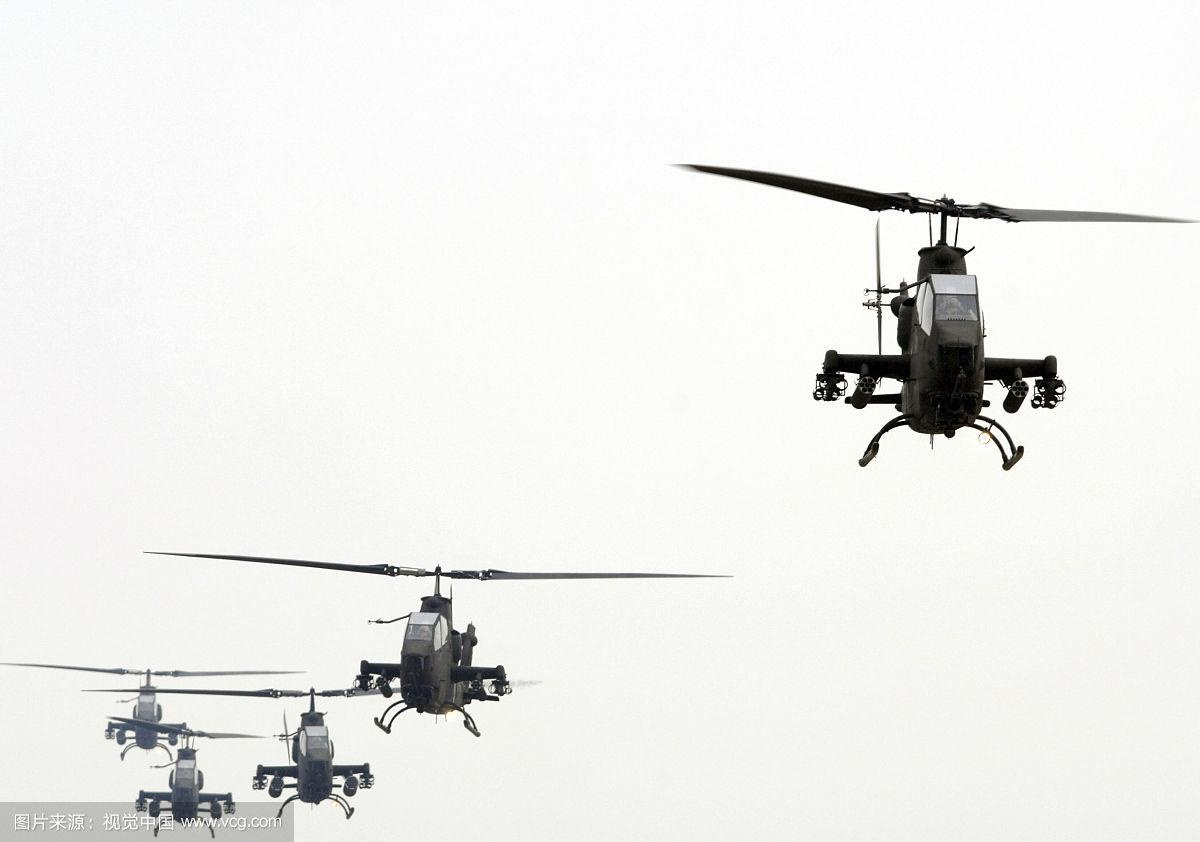airplane: (674, 159, 1200, 467), (138, 543, 750, 727), (2, 659, 307, 761), (242, 682, 403, 826), (62, 718, 267, 830)
